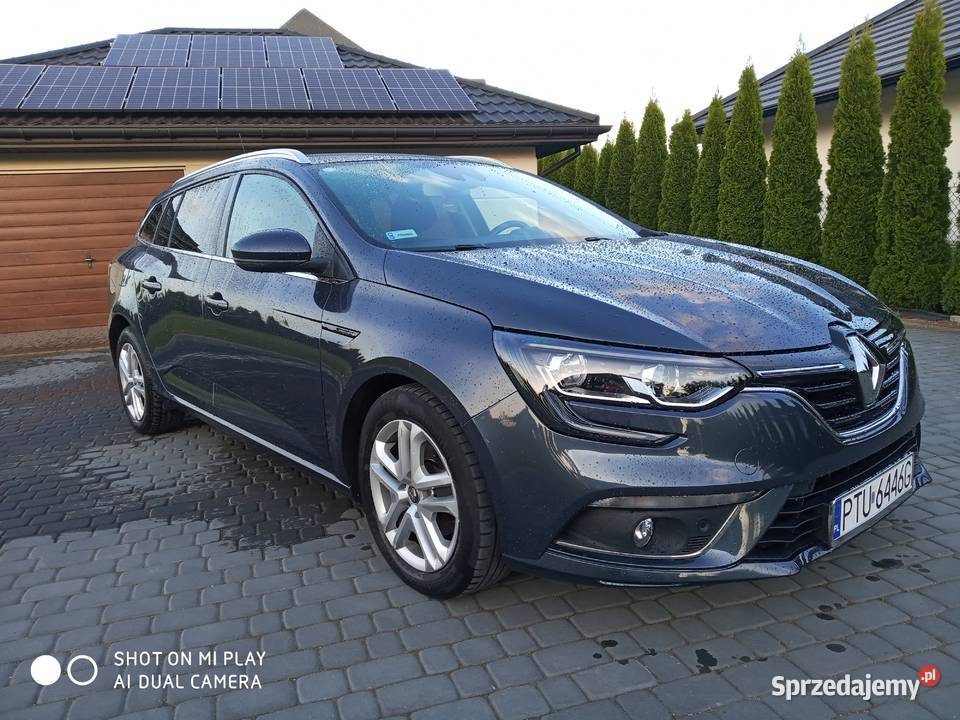tablica: (835, 454, 914, 546)
